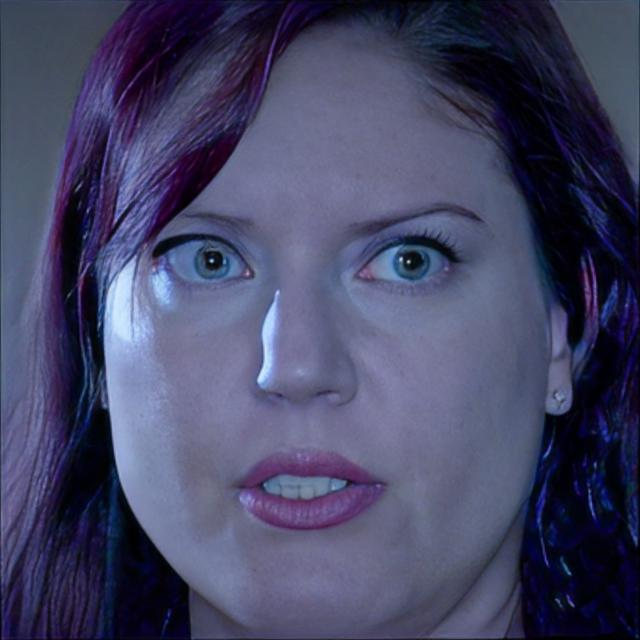fear: (100, 21, 550, 640)
